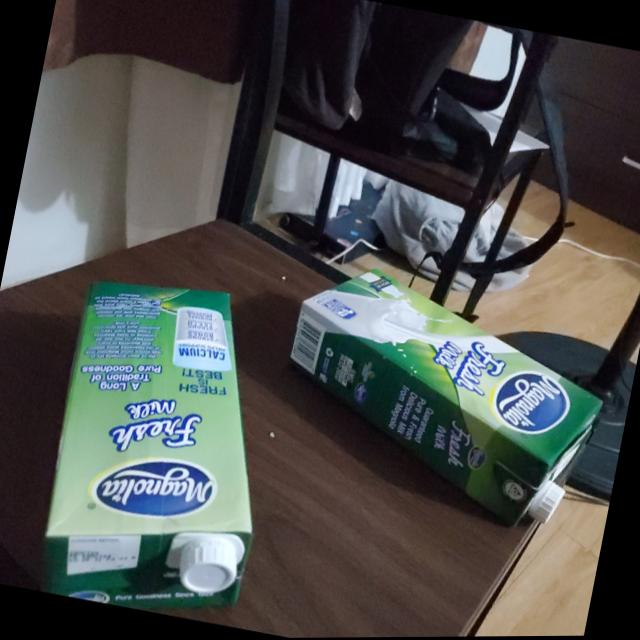milk: (263, 255, 622, 543), (26, 262, 302, 626)
